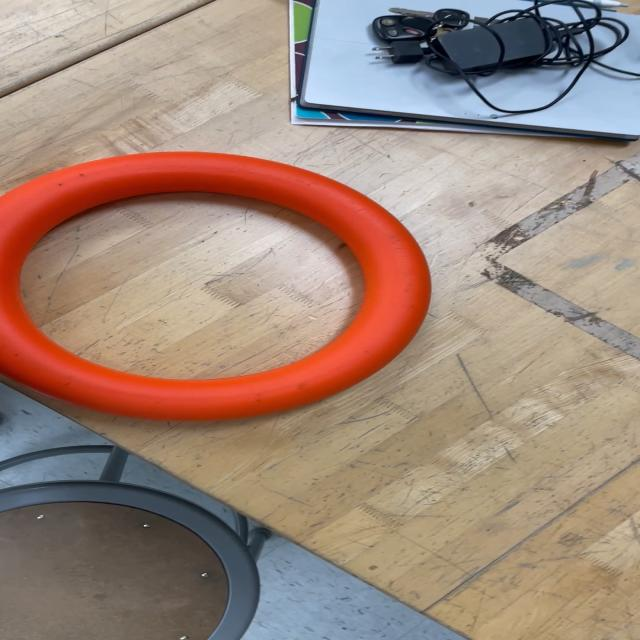note: (0, 150, 431, 424)
